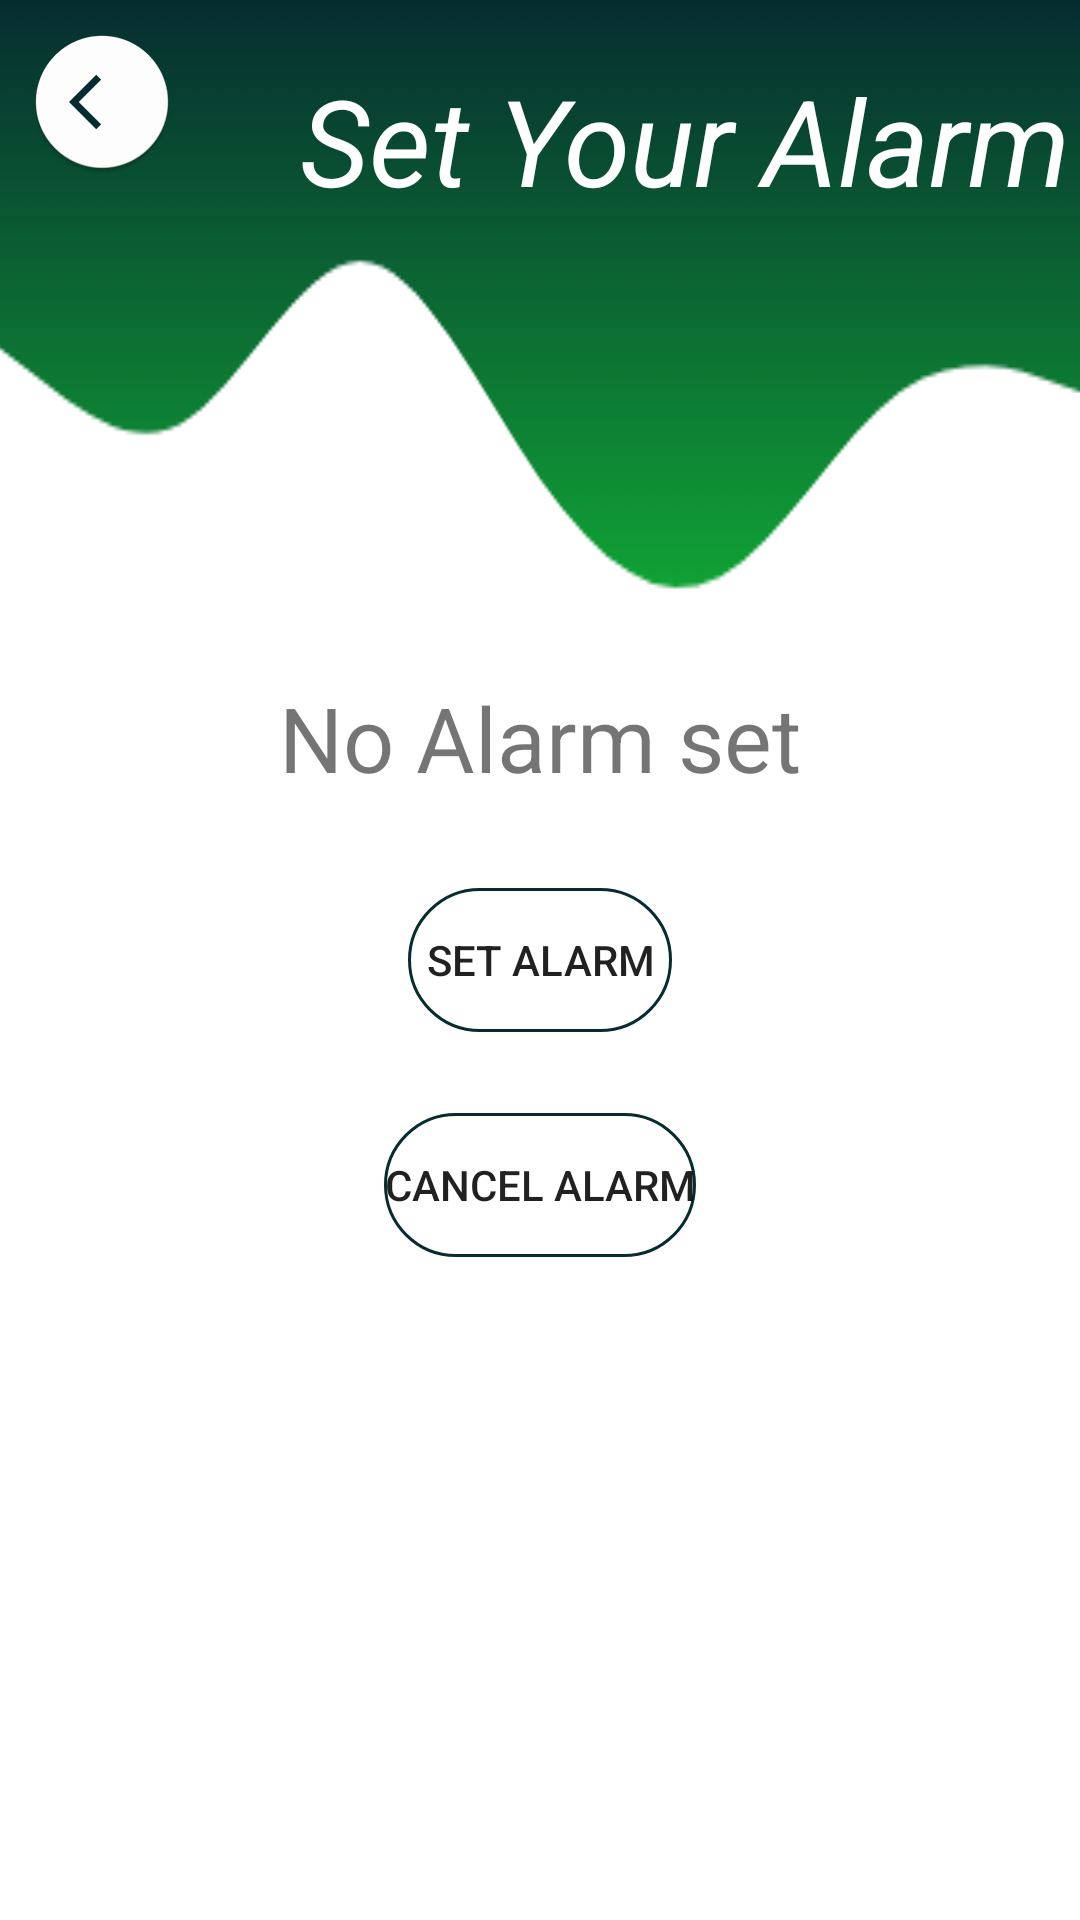

Point at icon controls on the screen. Image size 1080×1920, points as [x,y].
back: [102,101]
